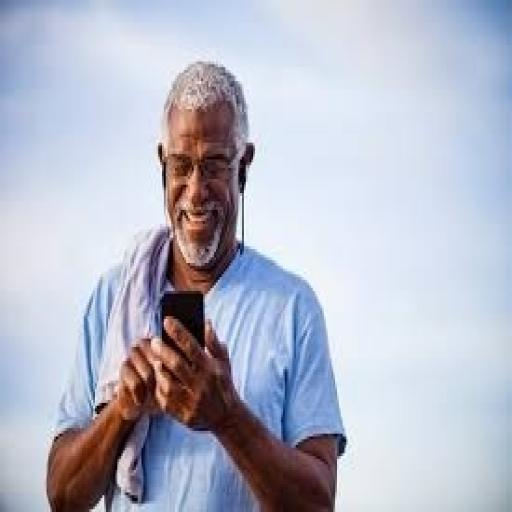texting: (45, 56, 348, 509)
